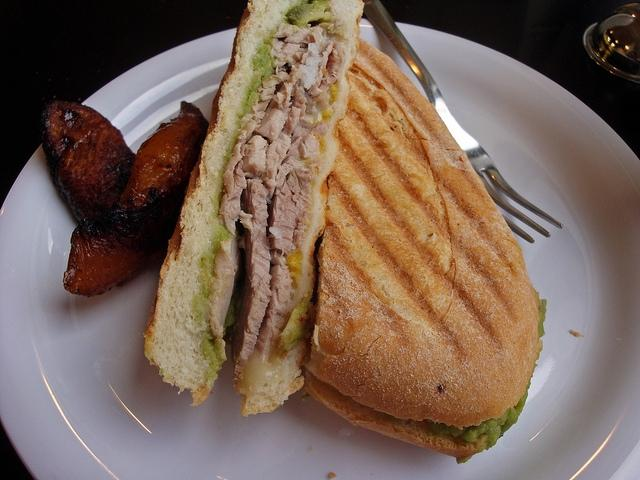avocado: (428, 380, 530, 450), (190, 252, 216, 327)
